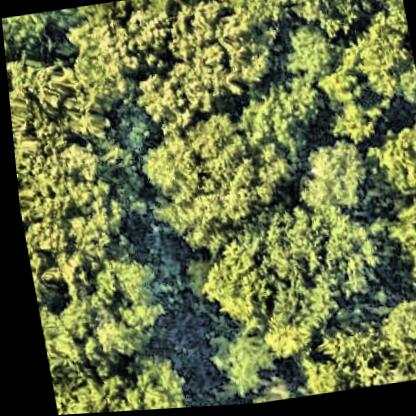tree-top: (130, 107, 285, 254), (123, 5, 267, 135), (25, 254, 171, 377), (11, 135, 127, 264), (265, 205, 371, 301), (4, 51, 99, 153), (41, 355, 182, 415), (283, 139, 373, 229), (187, 240, 274, 330), (339, 17, 416, 110), (314, 60, 377, 153), (365, 196, 416, 305), (361, 120, 416, 215), (253, 77, 325, 145), (363, 300, 416, 386), (211, 337, 276, 401), (282, 0, 368, 47), (277, 33, 338, 85), (1, 11, 59, 62), (228, 0, 294, 36), (287, 362, 332, 400), (352, 0, 404, 17)
